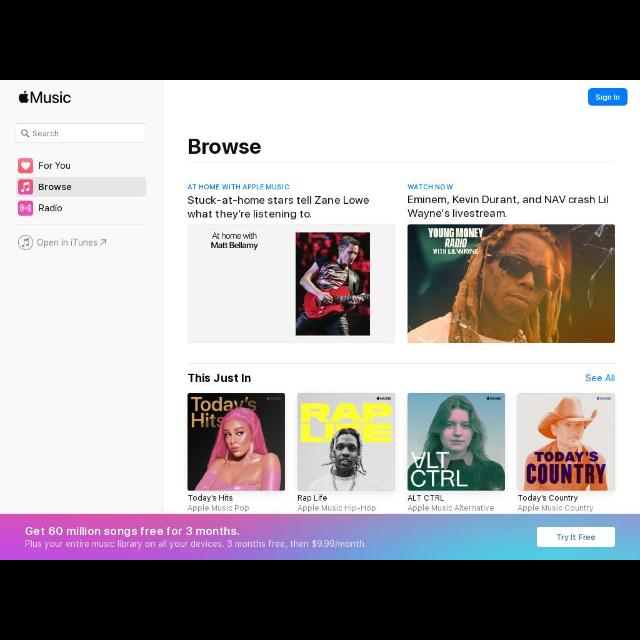icon: (18, 236, 34, 250), (19, 90, 29, 104), (20, 128, 30, 138), (99, 238, 108, 246)
image: (408, 224, 614, 342), (408, 392, 506, 490), (298, 393, 396, 489), (518, 394, 614, 492), (188, 394, 284, 491), (296, 232, 370, 338), (18, 160, 32, 172), (20, 179, 32, 193), (18, 202, 32, 214)
input: (16, 124, 146, 142)
text: (24, 526, 240, 536), (188, 372, 252, 386), (212, 232, 260, 250), (36, 238, 98, 250), (31, 90, 70, 106), (586, 374, 616, 384), (33, 130, 59, 138)
textbutton: (408, 195, 610, 218), (189, 196, 371, 218), (24, 539, 368, 549), (536, 528, 616, 546), (188, 138, 260, 156), (188, 182, 290, 190), (518, 504, 594, 514), (408, 505, 494, 513), (589, 89, 627, 107), (298, 505, 376, 513), (188, 504, 248, 512), (519, 494, 579, 502), (556, 533, 596, 543), (188, 493, 234, 501), (408, 182, 452, 190), (38, 161, 72, 171), (38, 182, 72, 192), (408, 492, 442, 502), (596, 91, 622, 102), (298, 493, 328, 502), (39, 203, 63, 213)
